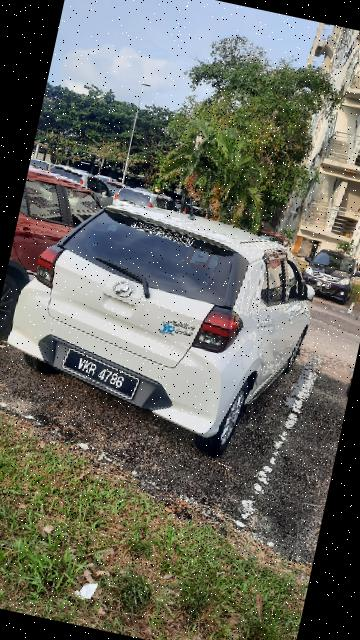License_Plate: (53, 343, 150, 410)
car: (1, 177, 337, 481), (292, 237, 360, 311)
